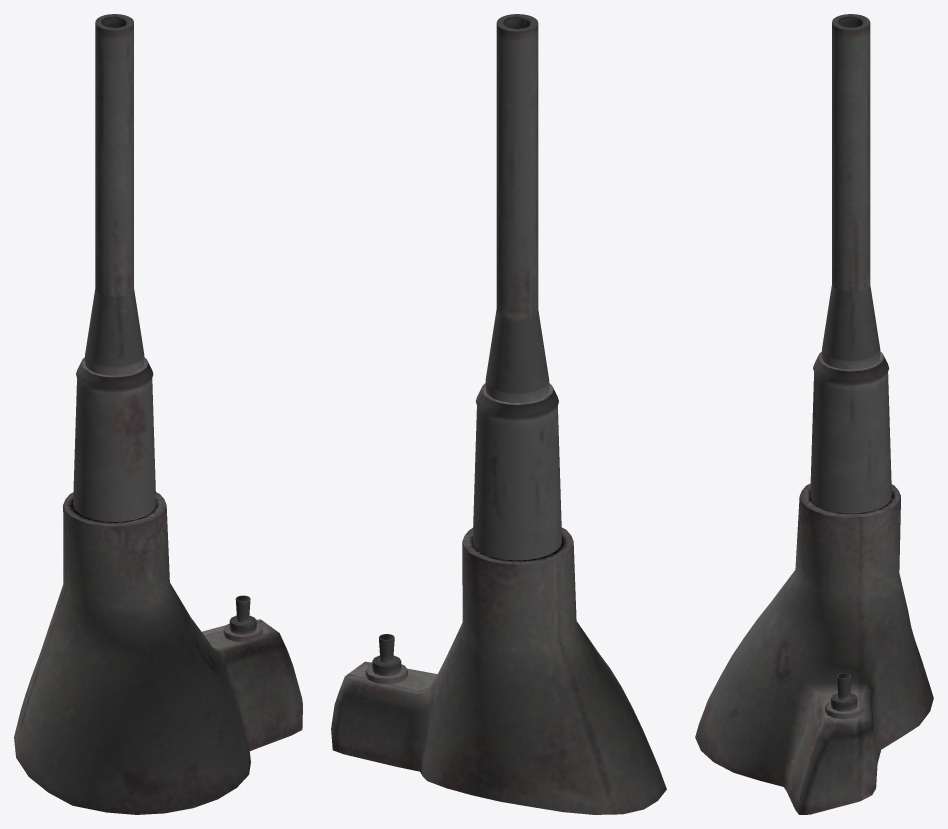
The model's file is Gun_09.glb.
3 views of the same model, side by side, from view 1: azimuth 30°, elevation 25°; view 2: azimuth 150°, elevation 25°; view 3: azimuth 270°, elevation 25° (orthographic). The views are drawn at different scales.
Visible parts, largest first — view 1: set_0_group_0; view 2: set_0_group_0; view 3: set_0_group_0.
Part boxes in pixels (<box>): set_0_group_0: <box>14,14,302,814</box>; set_0_group_0: <box>331,14,666,814</box>; set_0_group_0: <box>695,14,933,814</box>.
Size of the model in its own units: 0.6292 by 1.62 by 0.4893.
Materials: 1 (1 with a texture image).
